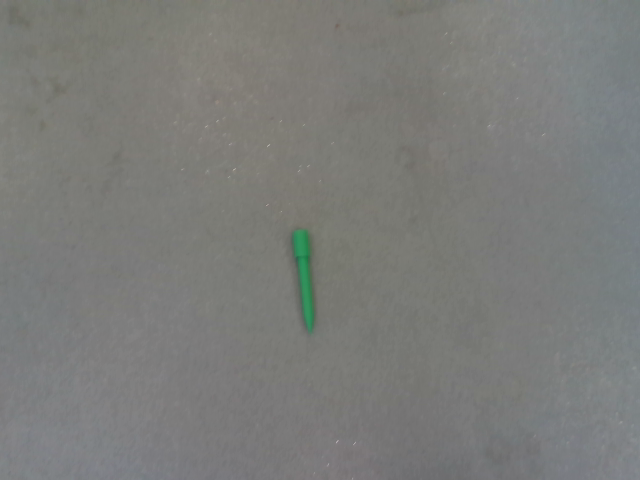Probe: (287, 223, 322, 337)
